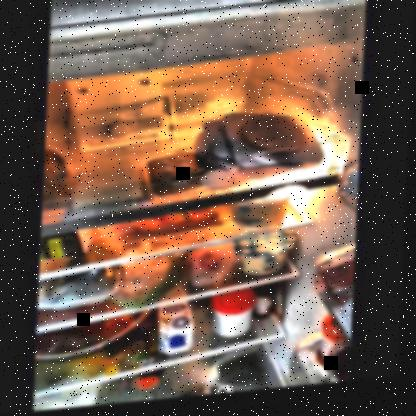broccoli: (41, 275, 116, 305)
butter: (148, 158, 207, 195)
carrot: (122, 216, 224, 242)
cheese: (74, 166, 143, 208)
green_chillies: (127, 261, 189, 312)
milk: (158, 310, 200, 358)
salami: (239, 117, 310, 160)
tomato: (187, 253, 226, 283)
yoghurt: (234, 241, 296, 282), (235, 201, 292, 236)
